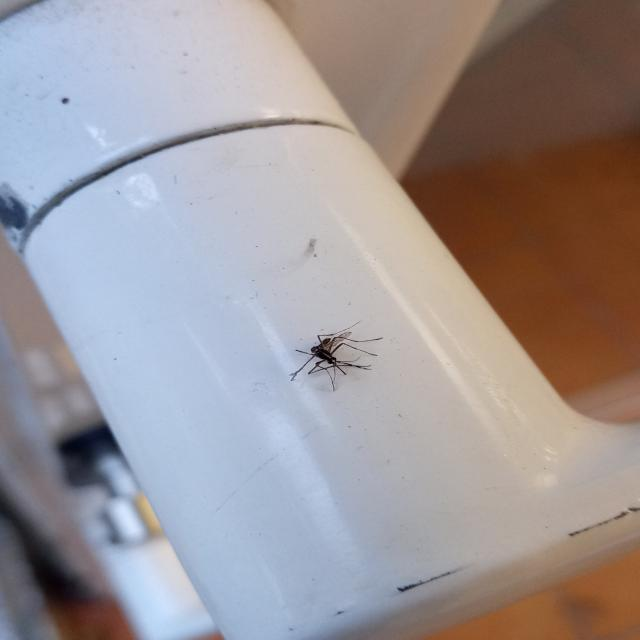albopictus: (280, 316, 387, 390)
